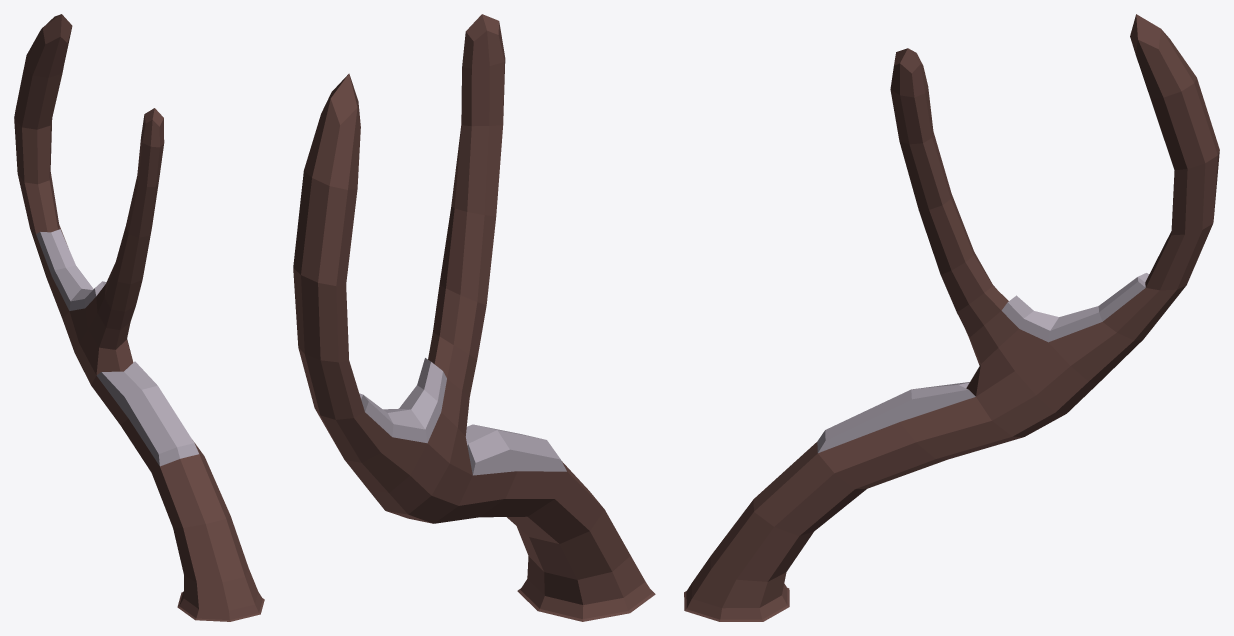
Rendered from Willow_Dead_Snow_3.gltf.
3 views of the same model, side by side, from view 1: azimuth 30°, elevation 25°; view 2: azimuth 150°, elevation 25°; view 3: azimuth 270°, elevation 25° (orthographic). The views are drawn at different scales.
Visible parts, largest first — view 1: Willow_Dead_Snow_3; view 2: Willow_Dead_Snow_3; view 3: Willow_Dead_Snow_3.
Part boxes in pixels (bbox=[...]): Willow_Dead_Snow_3: bbox=[14, 14, 264, 621]; Willow_Dead_Snow_3: bbox=[293, 14, 655, 621]; Willow_Dead_Snow_3: bbox=[684, 14, 1219, 621].
Bounding box in the file's own units: 0.3109 × 1.91 × 1.58.
